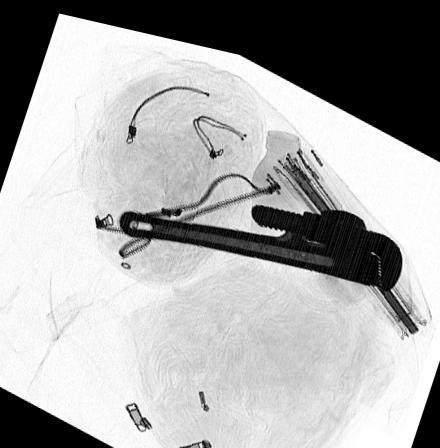Wrench: (115, 190, 402, 272)
